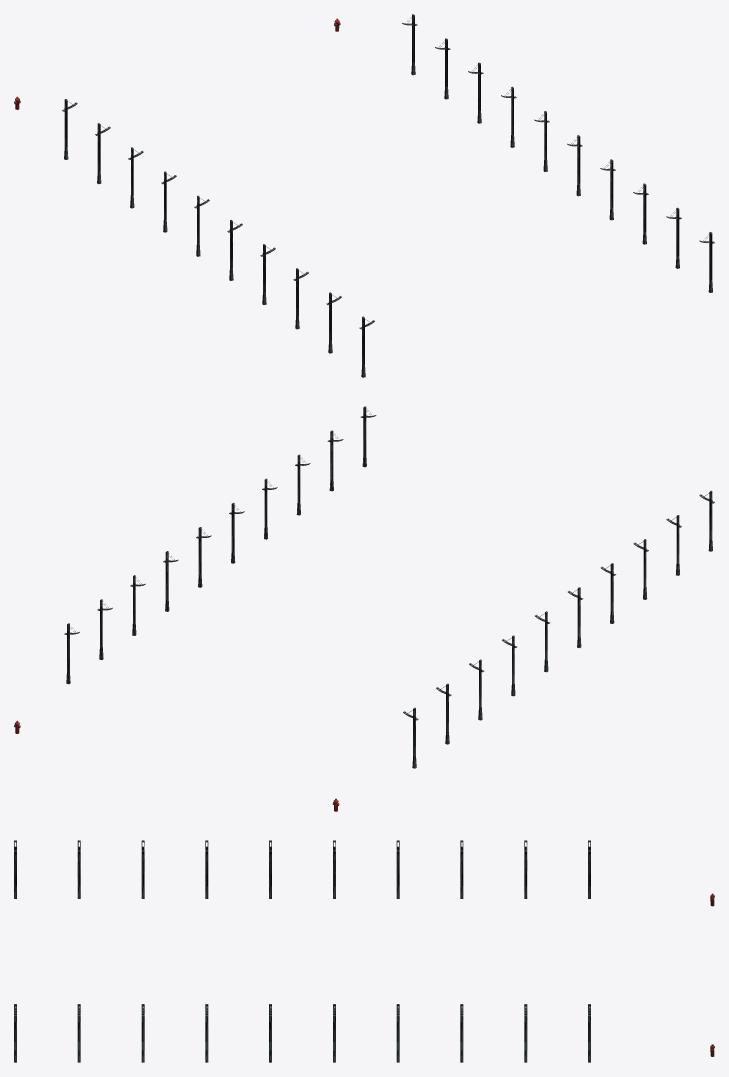
Rendered from streetLampwithTexture.glb.
3 views of the same model, one above another, from view 1: azimuth 30°, elevation 25°; view 2: azimuth 150°, elevation 25°; view 3: azimuth 270°, elevation 25° (orthographic). The views are drawn at different scales.
Parts seen in each view (by area): view 1: 消防栓+路灯; view 2: 消防栓+路灯; view 3: 消防栓+路灯.
Part boxes in pixels (box(x1,y1,x2,y2)): 消防栓+路灯: box(14, 14, 714, 377); 消防栓+路灯: box(14, 406, 714, 811); 消防栓+路灯: box(14, 840, 714, 1062).
Bounding box in the file's own units: 38.11 × 6.16 × 67.7.
1 material, 1 textured.
